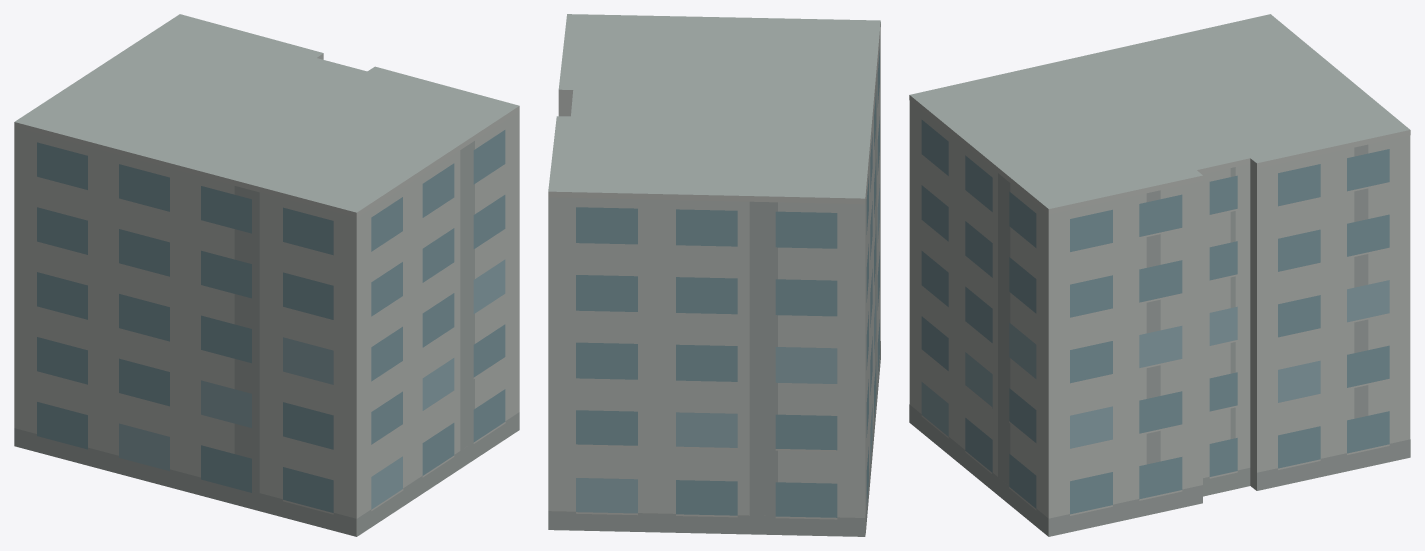
File: survey-upis-32891706.glb
3 views of the same model, side by side, from view 1: azimuth 30°, elevation 25°; view 2: azimuth 150°, elevation 25°; view 3: azimuth 270°, elevation 25° (orthographic). The views are drawn at different scales.
Parts seen in each view (by area): view 1: survey-upis-32891706.tmp; view 2: survey-upis-32891706.tmp; view 3: survey-upis-32891706.tmp.
Part boxes in pixels (x1,y1,x2,y2): survey-upis-32891706.tmp: (14, 14, 519, 536); survey-upis-32891706.tmp: (548, 14, 880, 536); survey-upis-32891706.tmp: (909, 14, 1410, 536).
Size of the model in its own units: 18.53 by 14.5 by 20.09.
